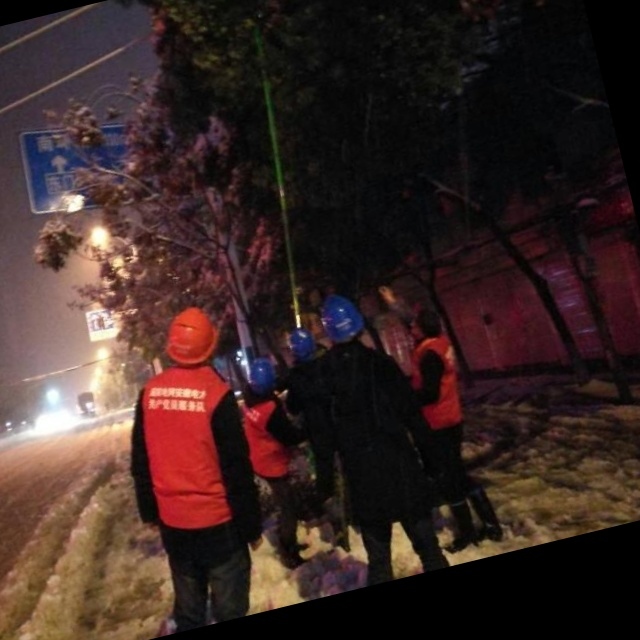Con_Casco: (160, 303, 222, 369)
